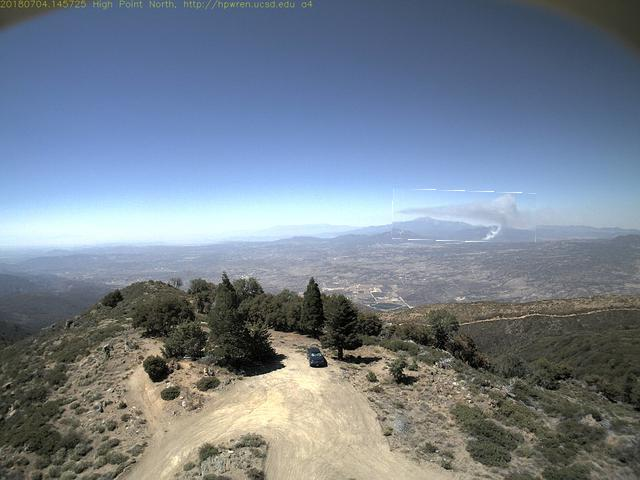smoke: (394, 191, 538, 243)
